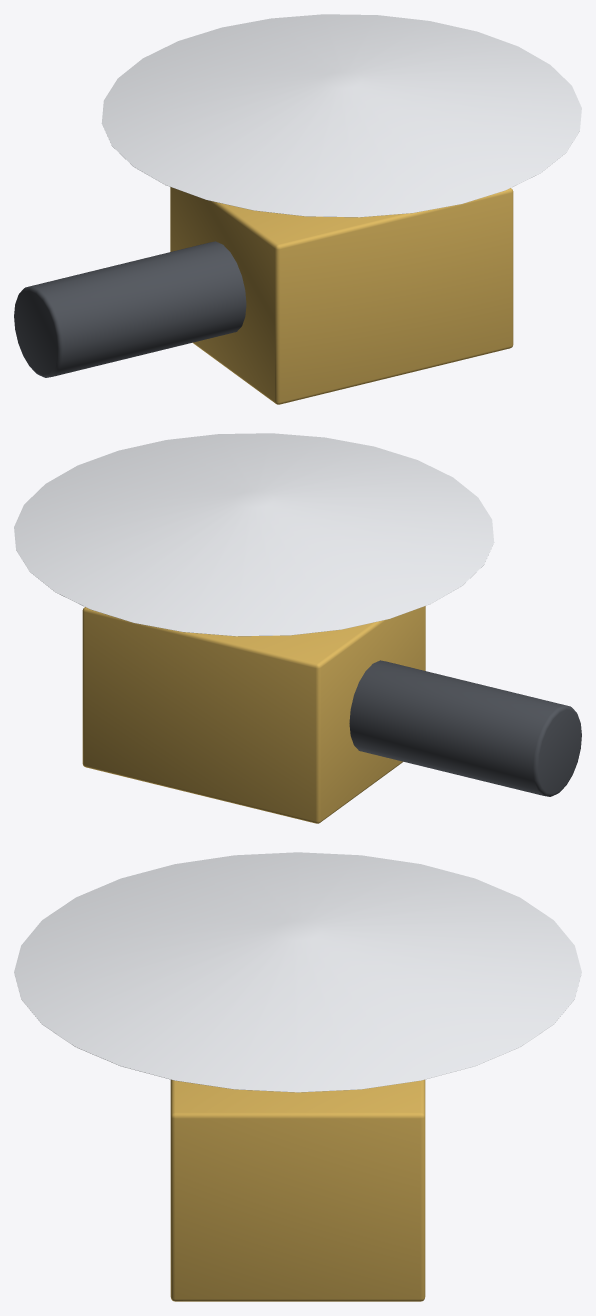
The model's file is new_horizons.glb.
The picture shows the model from 3 angles, top to bottom: view 1: azimuth 30°, elevation 25°; view 2: azimuth 150°, elevation 25°; view 3: azimuth 270°, elevation 25°; orthographic projection. The views are drawn at different scales.
Parts seen in each view (by area): view 1: new_horizons; view 2: new_horizons; view 3: new_horizons.
Boxes of the visible parts, x1,y1,x2,y2 form: new_horizons: [14, 14, 581, 404]; new_horizons: [14, 433, 581, 823]; new_horizons: [14, 852, 581, 1301].
Size of the model in its own units: 1.51 by 0.725 by 1.23.
